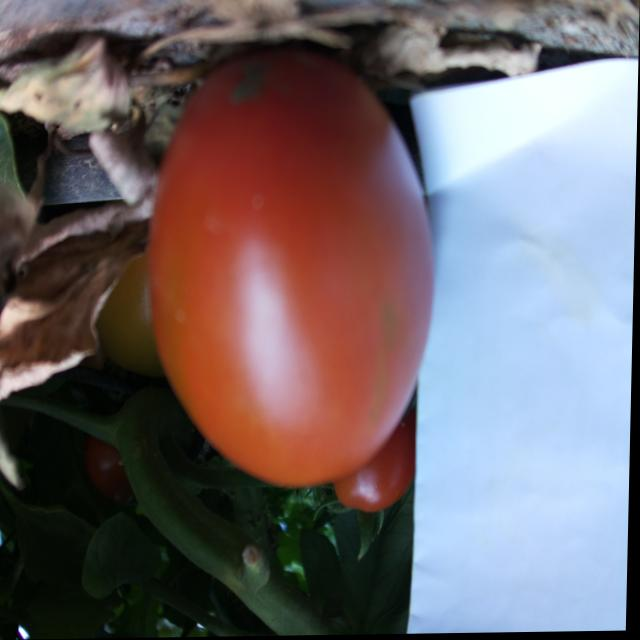kirmizi: (94, 43, 465, 502)
